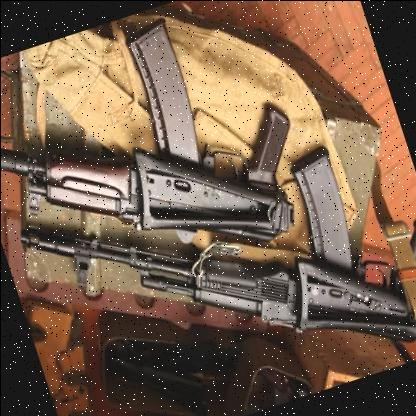rifle: (19, 101, 416, 416), (0, 0, 317, 321)
